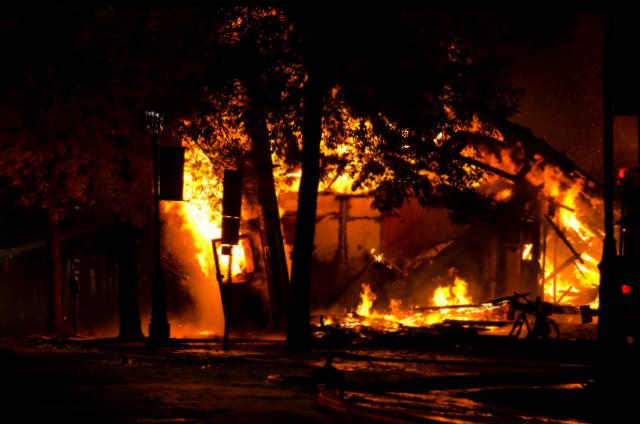fire: (168, 21, 609, 338)
